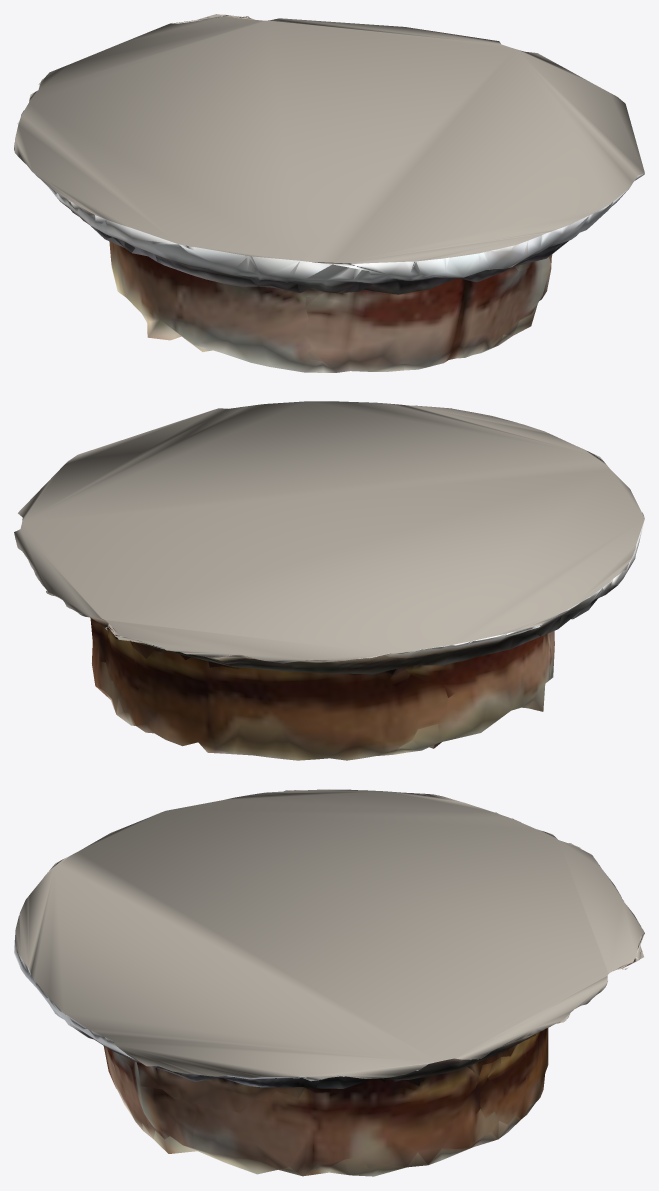
File: cake_2240.obj
3 renders of one model, top to bottom at view 1: azimuth 30°, elevation 25°; view 2: azimuth 150°, elevation 25°; view 3: azimuth 270°, elevation 25°, orthographic. The views are drawn at different scales.
Bounding box in the file's own units: 0.1761 × 0.0547 × 0.177.
Materials: 1 (1 with a texture image).
